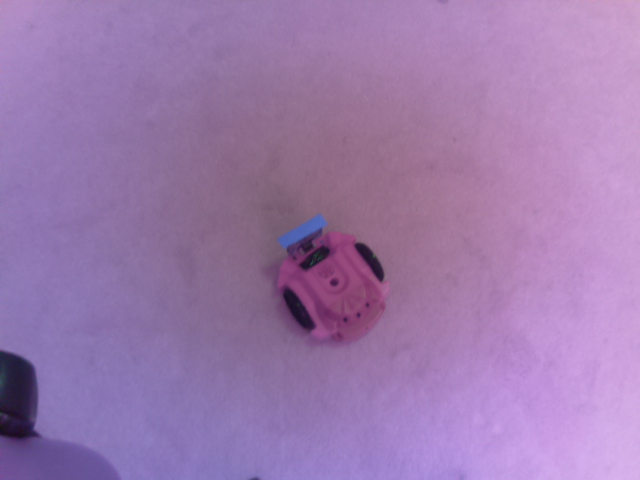board: (279, 212, 328, 255)
chassis: (267, 208, 393, 347)
